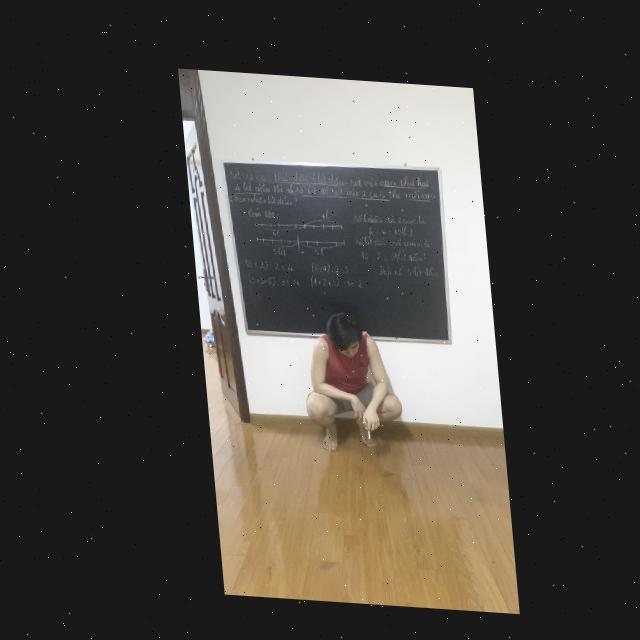cigarette: (359, 425, 362, 434)
